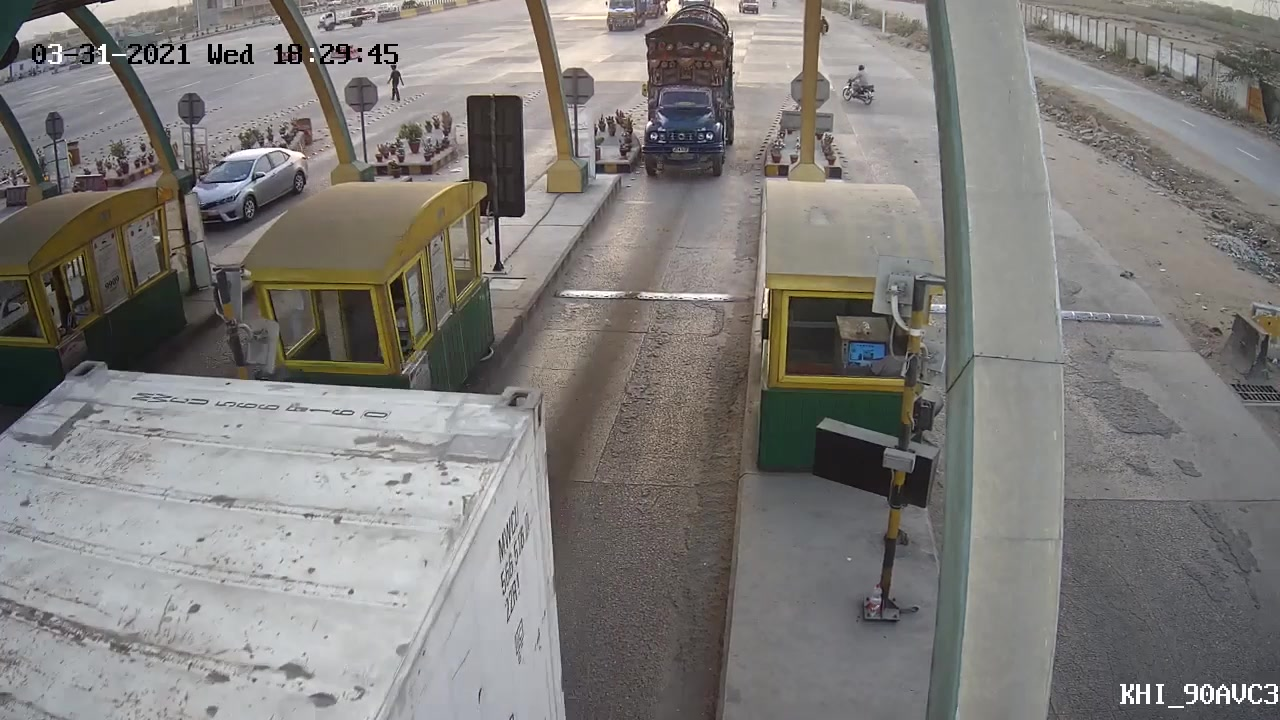F5: (626, 6, 745, 187)
